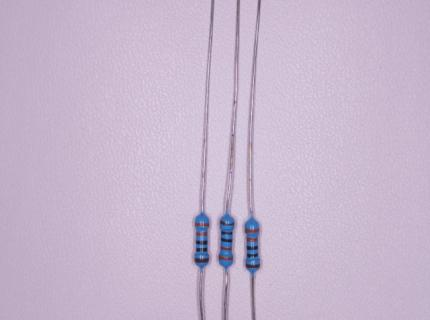Black band: (221, 237, 232, 243), (247, 245, 259, 250), (196, 247, 208, 252), (196, 240, 208, 245), (247, 253, 259, 257), (221, 231, 233, 235)
Brown band: (220, 220, 234, 226), (194, 258, 209, 263), (246, 264, 260, 268)
Orange band: (218, 255, 233, 260), (245, 228, 259, 233), (194, 222, 209, 226), (220, 246, 232, 251), (246, 237, 258, 242), (196, 232, 208, 236)
